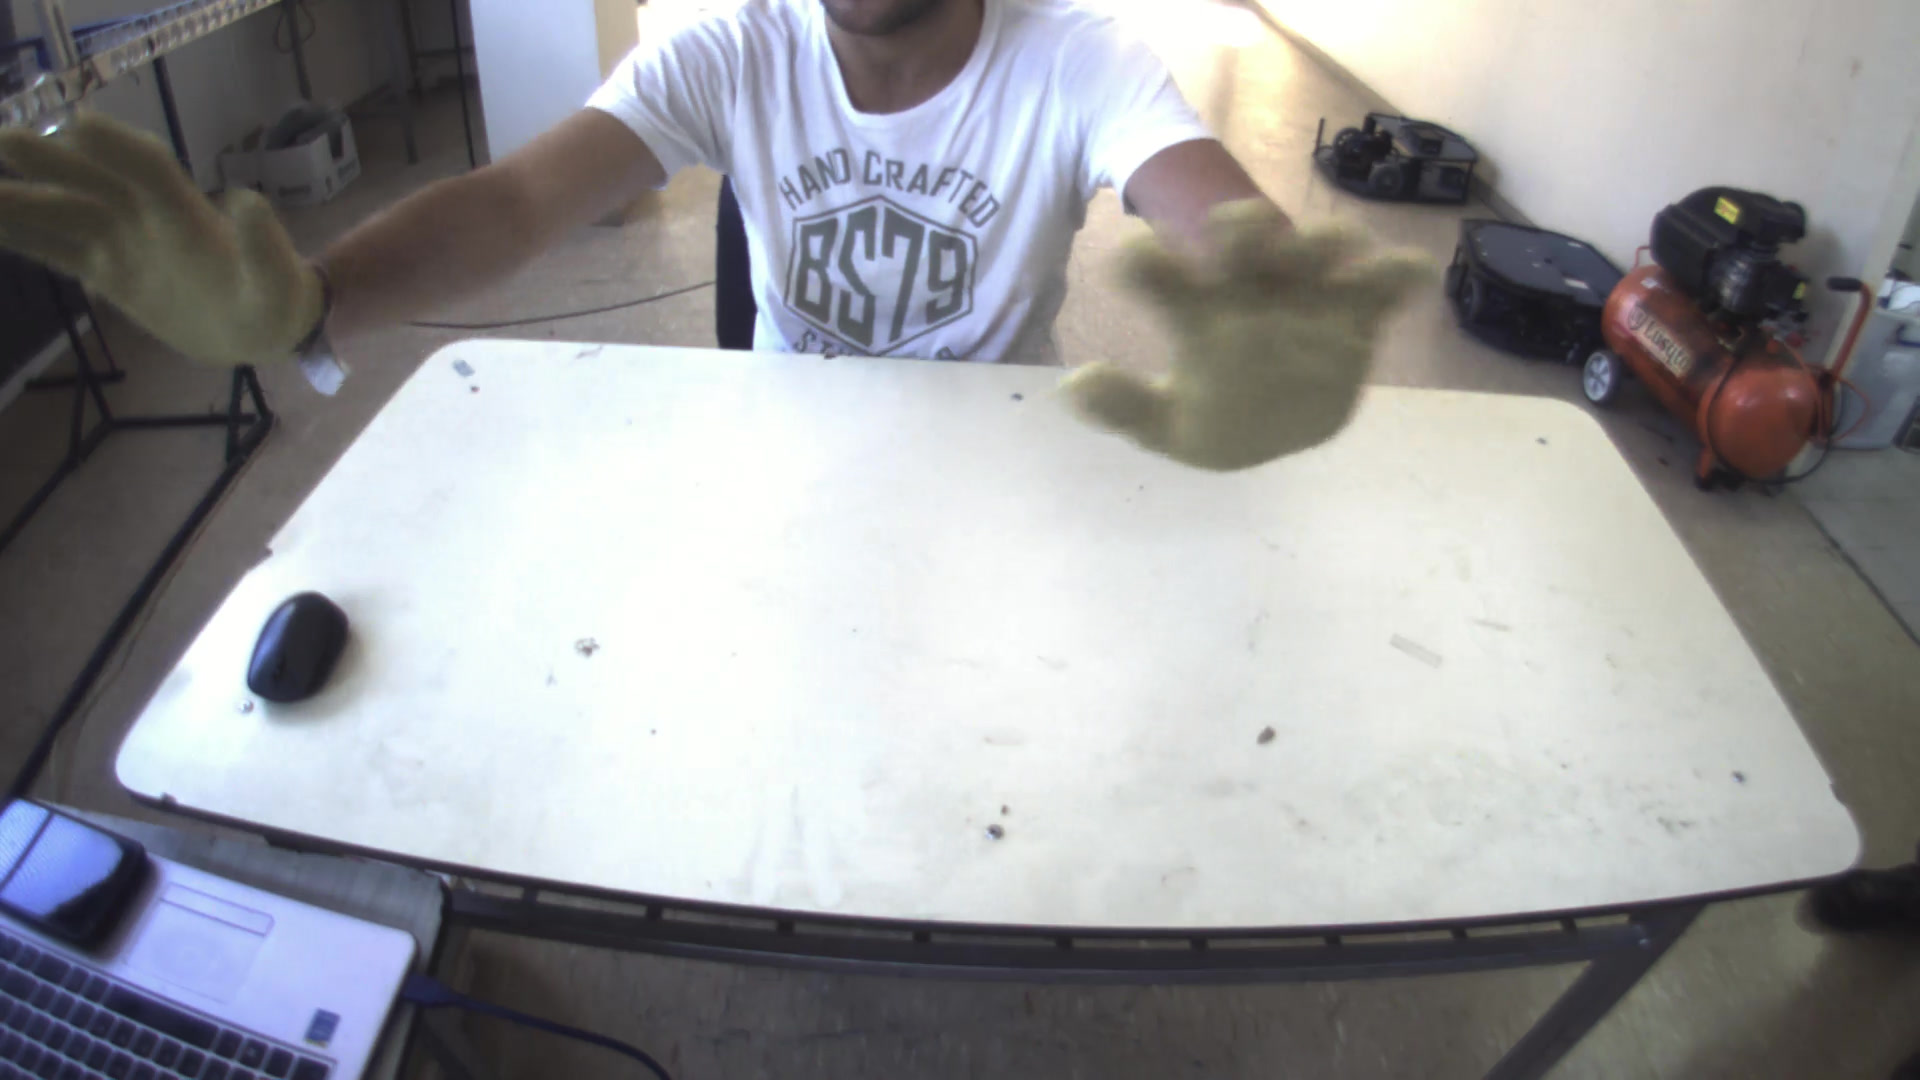hand: (1054, 179, 1447, 480), (3, 100, 342, 378)
